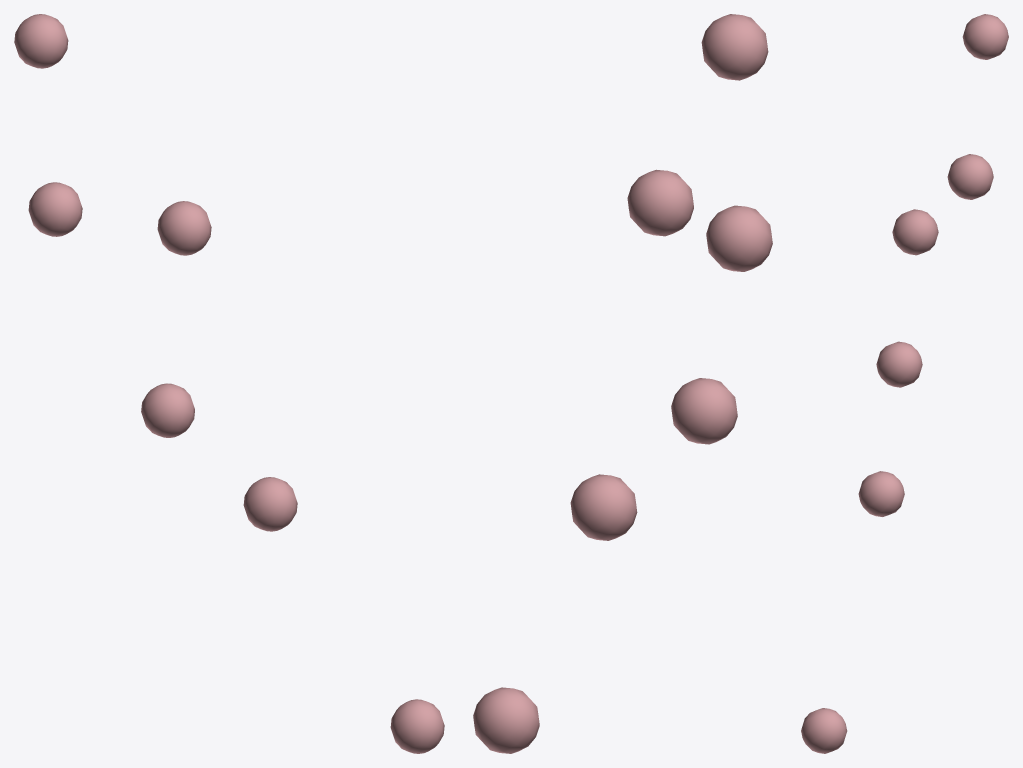
3 renders of one model, left to right at view 1: azimuth 30°, elevation 25°; view 2: azimuth 150°, elevation 25°; view 3: azimuth 270°, elevation 25°, orthographic. The views are drawn at different scales.
Visible parts, largest first — view 1: ZA_20f2b6944804d04d; view 2: ZA_20f2b6944804d04d; view 3: ZA_20f2b6944804d04d.
Part boxes in pixels (<box>): ZA_20f2b6944804d04d: <box>14,14,444,753</box>; ZA_20f2b6944804d04d: <box>473,14,772,753</box>; ZA_20f2b6944804d04d: <box>801,14,1008,753</box>.
Bounding box in the file's own units: 0.0179 × 0.0384 × 0.0117.
